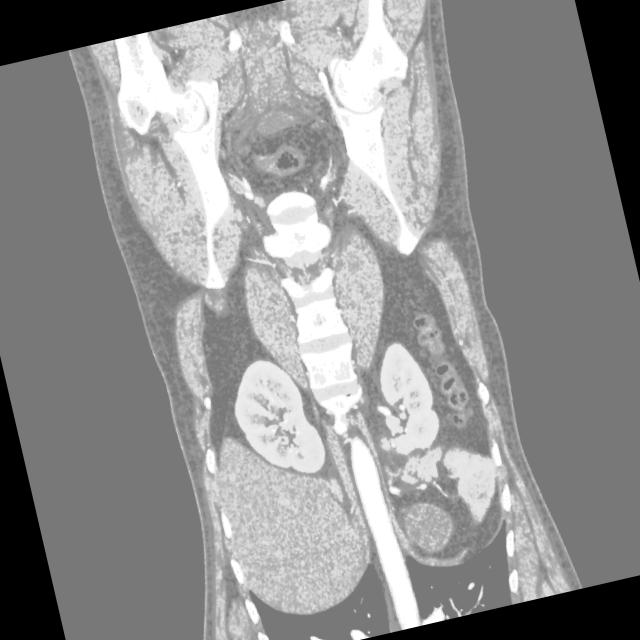NORMAL: (61, 68, 613, 638)
